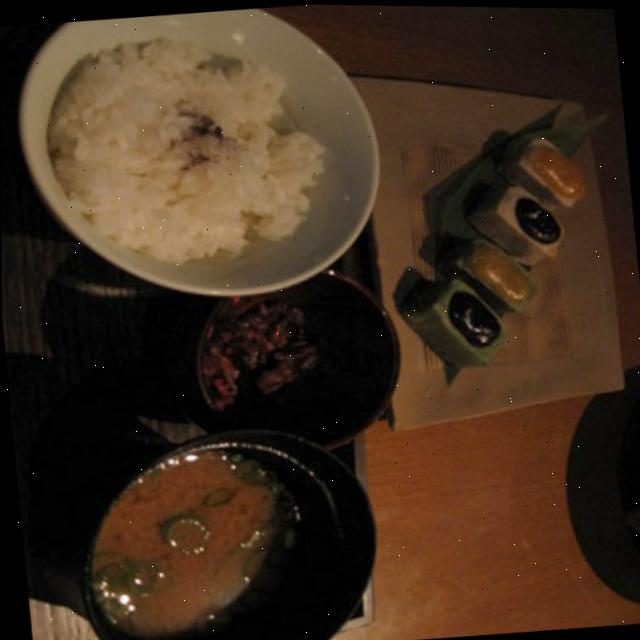米饭主食: (0, 0, 407, 331)
